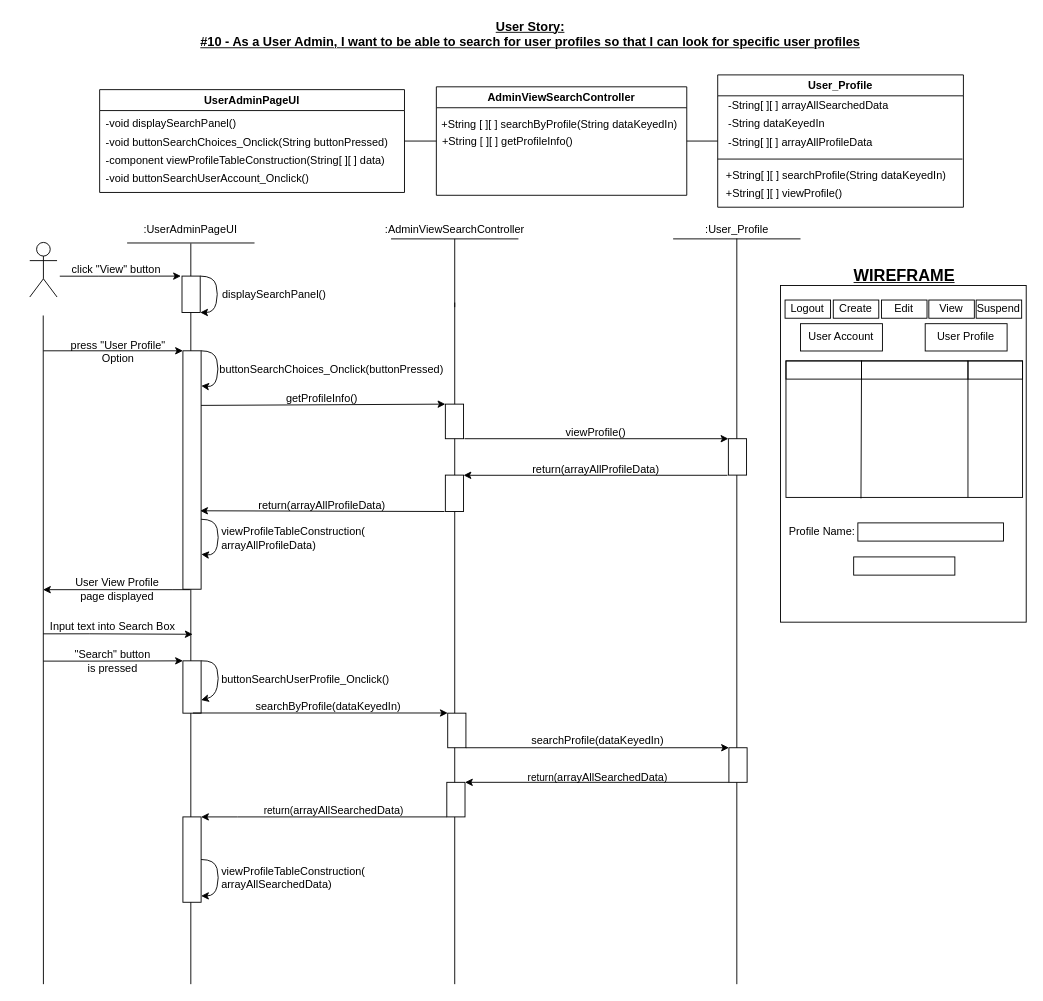
The diagram is 1043 pixels wide and 1001 high, and some of its shapes have lost their labels. The centre of each missing label's shape, as x and y in pixels:
"Active" goes at pixel 995 369.
"Profile ID" goes at pixel 823 369.
"Profile Name" goes at pixel 914 369.
"Search By Profile Name" goes at pixel 904 565.
"User Admin" goes at pixel 43 269.
